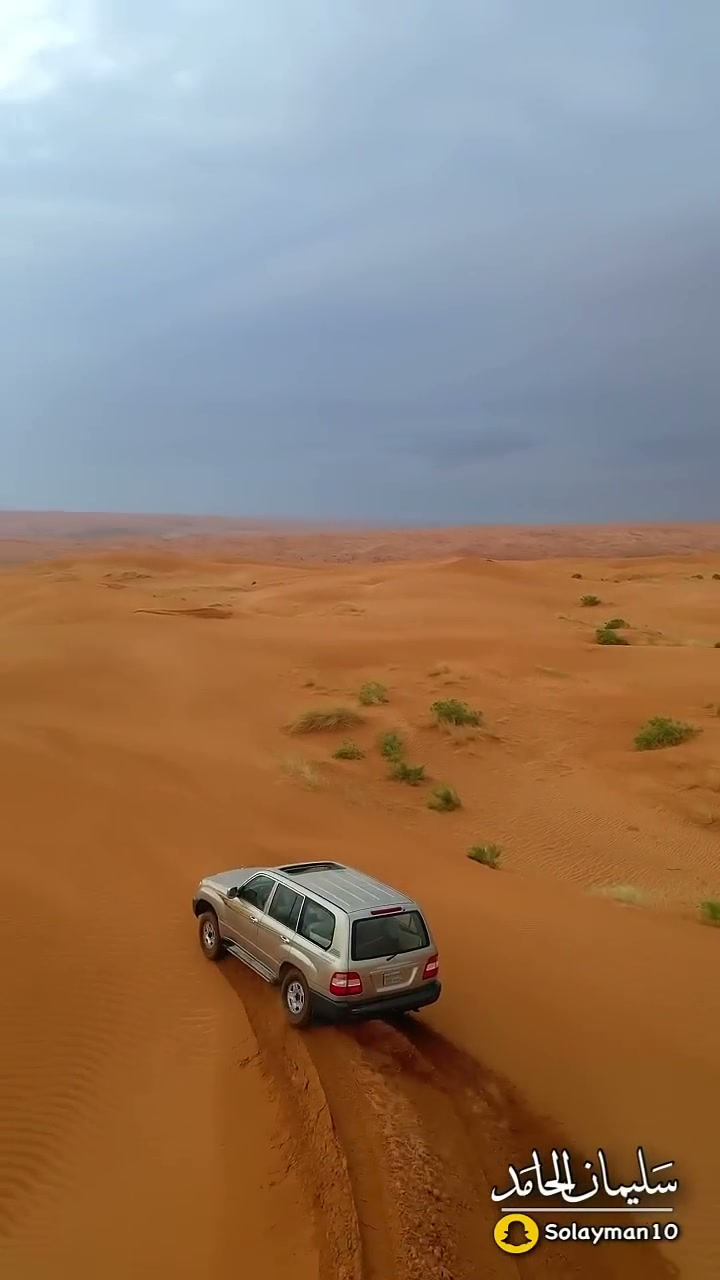vehicle_track: (222, 960, 676, 1279)
